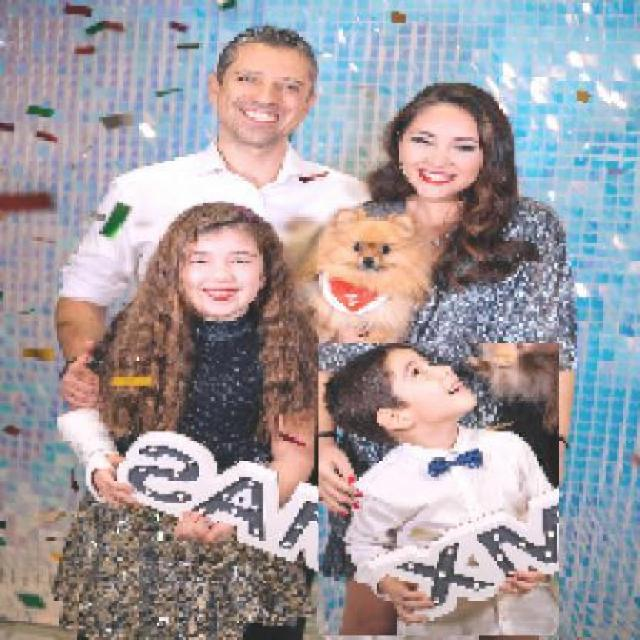child: (317, 343, 560, 637)
